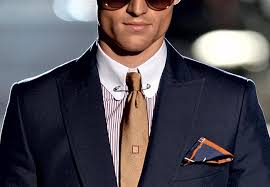tie: (115, 71, 156, 185)
